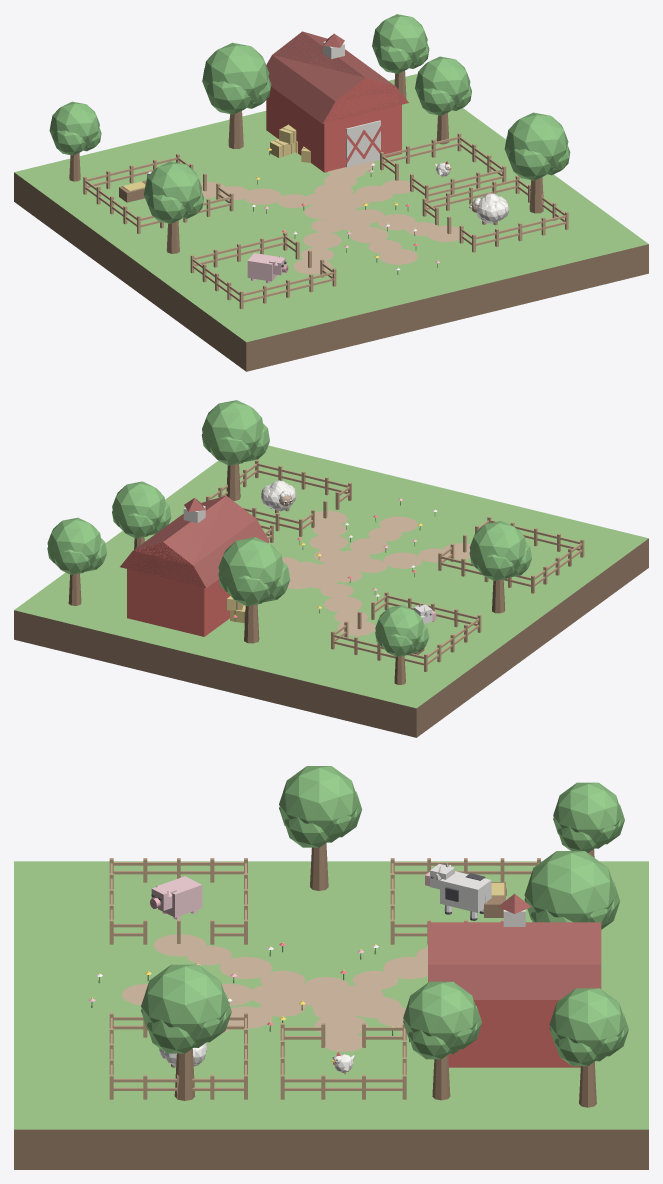
Rendered from granja_completa.glb.
3 views of the same model, one above another, from view 1: azimuth 30°, elevation 25°; view 2: azimuth 150°, elevation 25°; view 3: azimuth 270°, elevation 25° (orthographic). The views are drawn at different scales.
Visible parts, largest first — view 1: Terreno_Pasto, Granero_Rojo, Camino_Tierra, Arbol_5, Arbol_2, Arbol_1, Arbol_6, Arbol_4, Cerca_Cerdos, Cerca_Ovejas, Arbol_3, Cerca_Gallinas (+4 smaller); view 2: Terreno_Pasto, Granero_Rojo, Camino_Tierra, Arbol_5, Arbol_2, Arbol_1, Arbol_4, Arbol_6, Arbol_3, Cerca_Vacas, Cerca_Ovejas, Cerca_Cerdos (+1 smaller); view 3: Terreno_Pasto, Granero_Rojo, Camino_Tierra, Arbol_2, Arbol_1, Arbol_5, Arbol_4, Arbol_6, Arbol_3, Cerca_Cerdos, Cerca_Gallinas, Cerca_Ovejas (+4 smaller).
Boxes of the visible parts, x1,y1,x2,y2 form: Terreno_Pasto: (14, 74, 648, 371); Granero_Rojo: (266, 31, 408, 172); Camino_Tierra: (200, 161, 464, 274); Arbol_5: (202, 42, 271, 148); Arbol_2: (504, 112, 570, 213); Arbol_1: (144, 161, 203, 253); Arbol_6: (415, 56, 471, 144); Arbol_4: (372, 14, 429, 98); Cerca_Cerdos: (190, 232, 336, 309); Cerca_Ovejas: (422, 175, 568, 252); Arbol_3: (49, 101, 101, 181); Cerca_Gallinas: (380, 133, 506, 200); Terreno_Pasto: (14, 445, 648, 737); Granero_Rojo: (120, 495, 269, 636); Camino_Tierra: (282, 510, 470, 636); Arbol_5: (218, 537, 290, 643); Arbol_2: (201, 400, 269, 500); Arbol_1: (469, 521, 531, 613); Arbol_4: (47, 517, 106, 605); Arbol_6: (112, 481, 171, 549); Arbol_3: (375, 605, 429, 684); Cerca_Vacas: (331, 591, 481, 671); Cerca_Ovejas: (206, 459, 351, 536); Cerca_Cerdos: (438, 516, 584, 593); Terreno_Pasto: (14, 861, 648, 1169); Granero_Rojo: (428, 893, 601, 1067); Camino_Tierra: (121, 934, 427, 1051); Arbol_2: (141, 964, 231, 1100); Arbol_1: (279, 766, 362, 890); Arbol_5: (524, 851, 619, 929); Arbol_4: (549, 988, 628, 1107); Arbol_6: (403, 981, 481, 1100); Arbol_3: (553, 782, 624, 857); Cerca_Cerdos: (109, 858, 247, 944); Cerca_Gallinas: (280, 1023, 406, 1099); Cerca_Ovejas: (109, 1012, 247, 1099).
Size of the model in its own units: 26 by 8.52 by 26.
